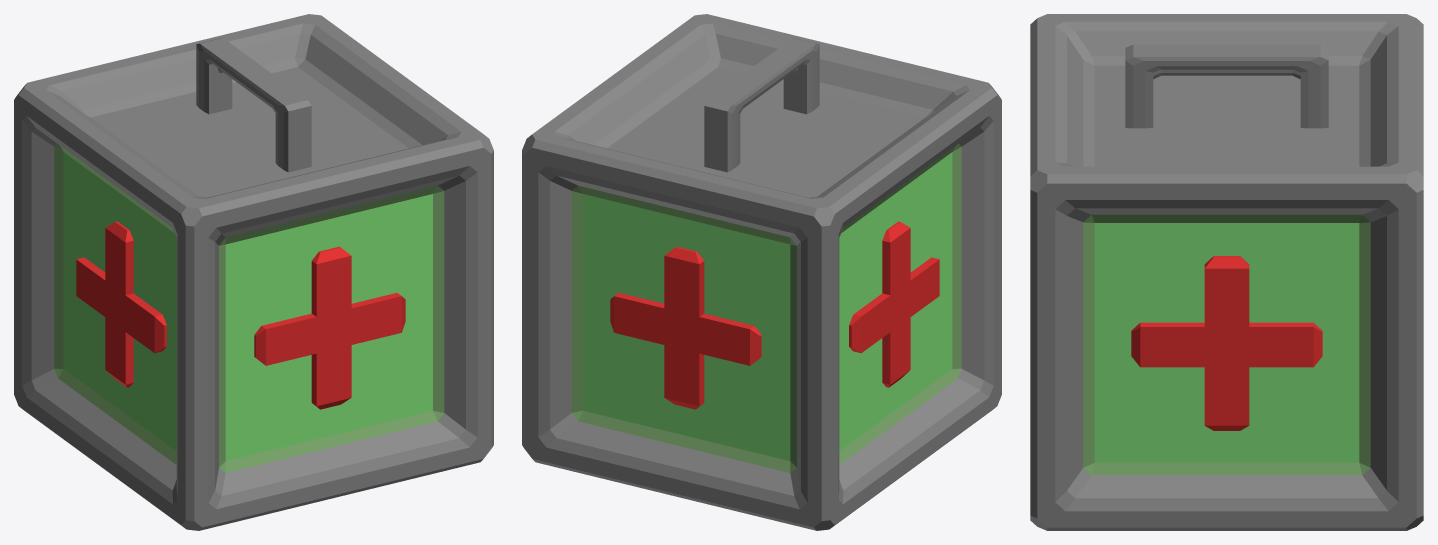
File: HPBox.fbx
The picture shows the model from 3 angles, left to right: view 1: azimuth 30°, elevation 25°; view 2: azimuth 150°, elevation 25°; view 3: azimuth 270°, elevation 25°; orthographic projection. The views are drawn at different scales.
Visible parts, largest first — view 1: Cube, Cube.002, Cube.001; view 2: Cube, Cube.002, Cube.001; view 3: Cube, Cube.002, Cube.001.
Boxes of the visible parts, <box> form: Cube: <box>14,14,493,530</box>; Cube.002: <box>76,221,405,409</box>; Cube.001: <box>196,38,311,172</box>; Cube: <box>522,14,1001,530</box>; Cube.002: <box>610,221,939,409</box>; Cube.001: <box>704,38,819,172</box>; Cube: <box>1030,14,1423,530</box>; Cube.002: <box>1131,256,1322,430</box>; Cube.001: <box>1125,44,1328,128</box>.
Size of the model in its own units: 200 by 224 by 200.
